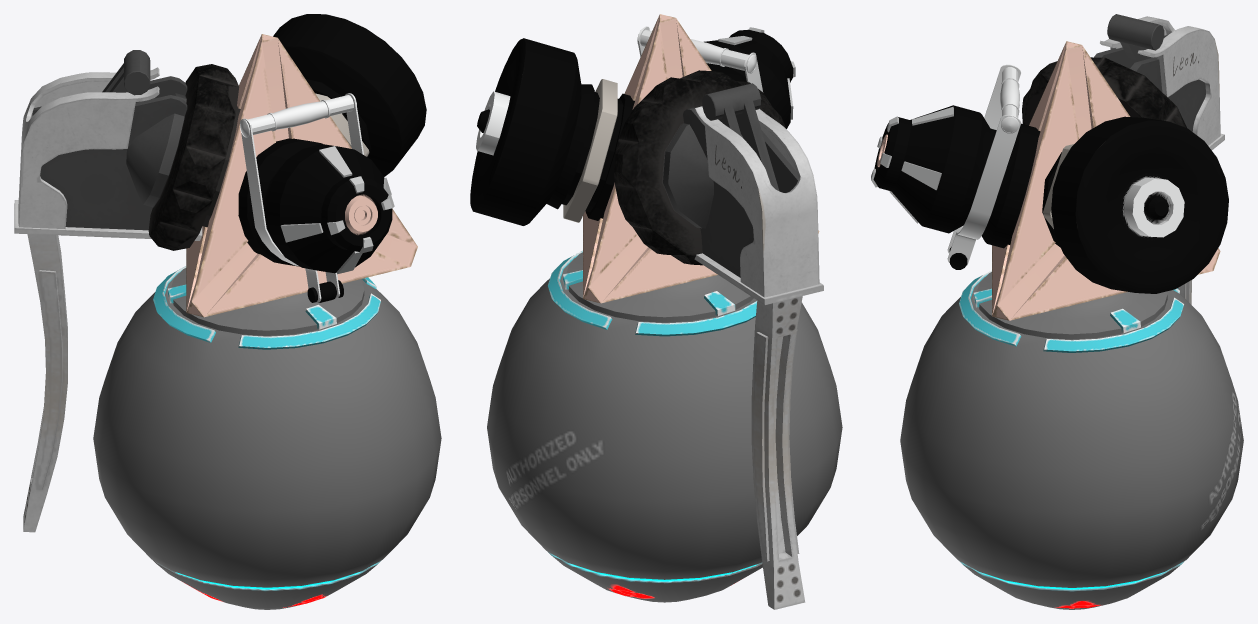
Rendered from grenade1.glb.
The picture shows the model from 3 angles, left to right: view 1: azimuth 30°, elevation 25°; view 2: azimuth 150°, elevation 25°; view 3: azimuth 270°, elevation 25°; orthographic projection. The views are drawn at different scales.
Size of the model in its own units: 211 by 301 by 186.
Materials: 1 (1 with a texture image).
